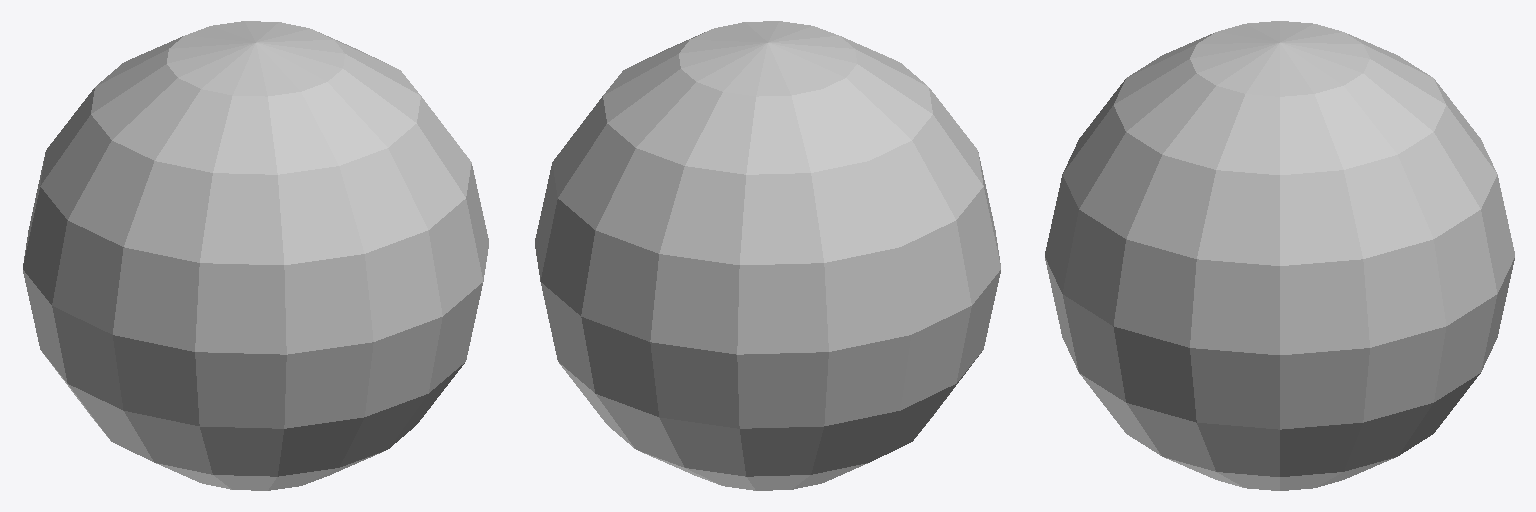
The model's file is bola1.obj.
3 views of the same model, side by side, from view 1: azimuth 30°, elevation 25°; view 2: azimuth 150°, elevation 25°; view 3: azimuth 270°, elevation 25° (orthographic).
Parts seen in each view (by area): view 1: POOL_TABLE.025; view 2: POOL_TABLE.025; view 3: POOL_TABLE.025.
Boxes of the visible parts, box(x1,y1,x2,y2) form: POOL_TABLE.025: box(23, 21, 488, 490); POOL_TABLE.025: box(535, 21, 1000, 490); POOL_TABLE.025: box(1045, 21, 1514, 490).
Size of the model in its own units: 0.0585 by 0.0585 by 0.0585.